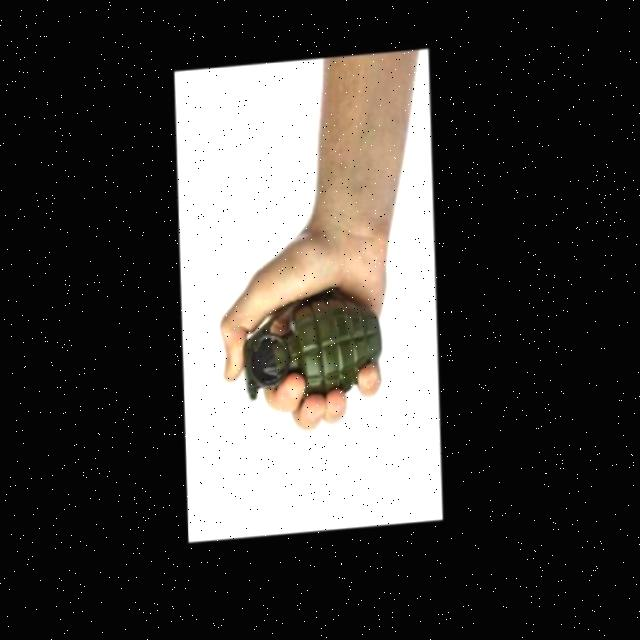grenade: (238, 288, 392, 413)
